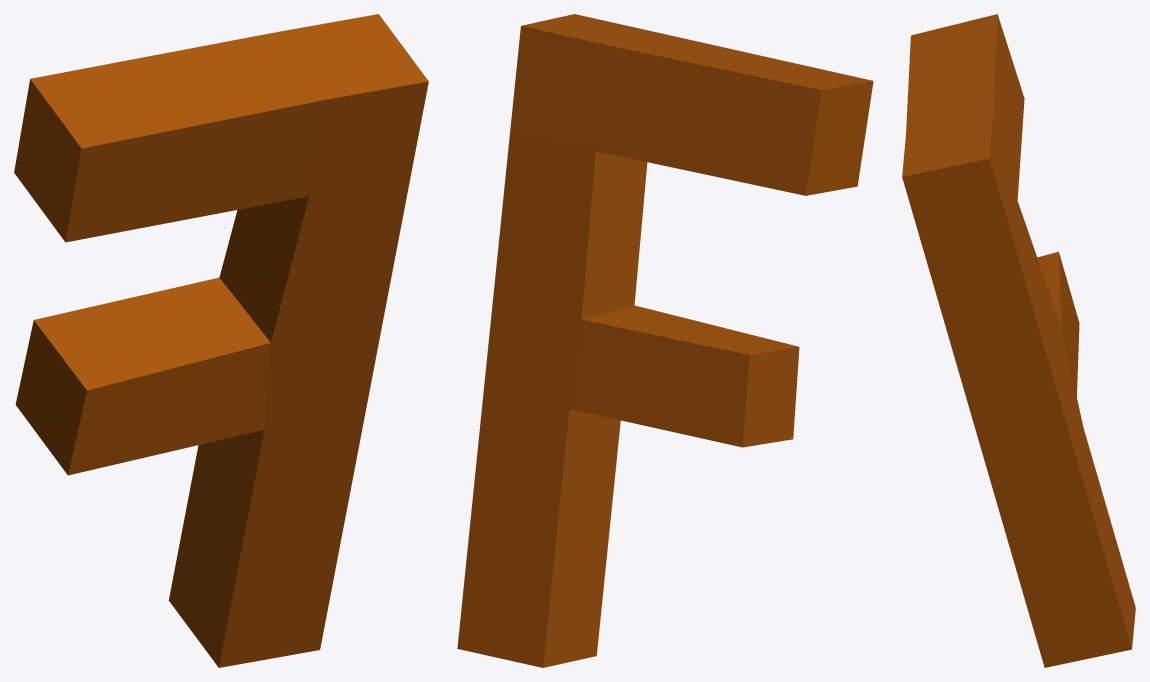
The picture shows the model from 3 angles, left to right: view 1: azimuth 30°, elevation 25°; view 2: azimuth 150°, elevation 25°; view 3: azimuth 270°, elevation 25°; orthographic projection. The views are drawn at different scales.
Parts seen in each view (by area): view 1: mesh_F; view 2: mesh_F; view 3: mesh_F.
Boxes of the visible parts, x1,y1,x2,y2 form: mesh_F: (14,14,428,667); mesh_F: (457,14,873,667); mesh_F: (902,14,1135,667).
Bounding box in the file's own units: 39.98 × 73.9 × 29.5.
